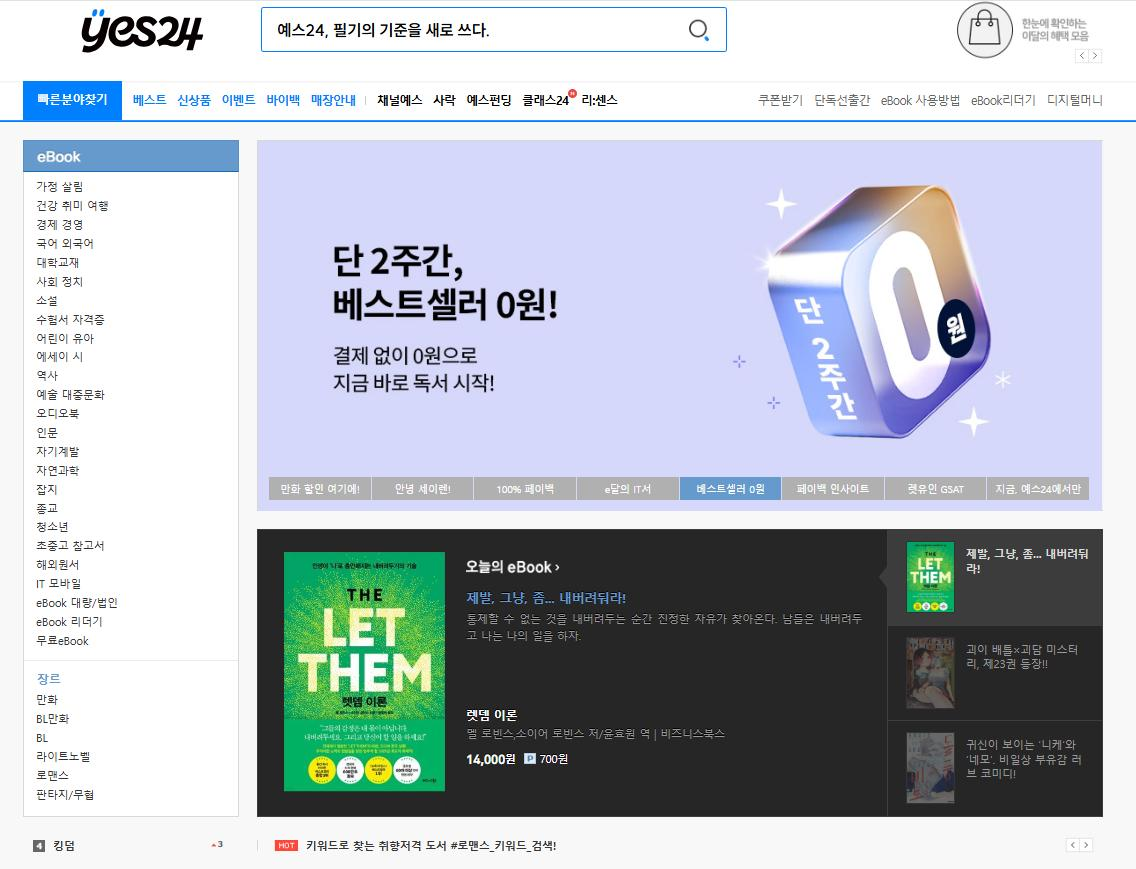button: (878, 85, 961, 113), (1048, 88, 1111, 113), (33, 310, 106, 331), (36, 576, 109, 597), (32, 197, 112, 216), (37, 594, 117, 613), (33, 463, 113, 482), (34, 332, 113, 350), (309, 88, 362, 114), (813, 88, 875, 110), (522, 85, 576, 110), (971, 91, 1040, 110), (373, 87, 425, 112), (35, 386, 107, 404), (758, 88, 809, 113), (31, 175, 91, 196), (37, 445, 97, 466), (34, 615, 104, 632), (261, 88, 304, 114), (35, 787, 97, 805), (462, 92, 517, 112), (33, 749, 94, 766), (35, 501, 103, 516), (32, 236, 99, 251), (32, 634, 99, 649), (580, 87, 618, 113), (38, 540, 108, 554), (36, 369, 103, 383), (34, 350, 90, 366), (33, 252, 82, 270), (34, 519, 83, 537), (33, 216, 88, 232), (31, 485, 86, 501), (36, 554, 78, 574), (34, 409, 92, 423), (32, 275, 90, 289), (221, 88, 257, 109), (126, 91, 171, 107), (431, 87, 459, 112), (34, 769, 75, 786), (177, 92, 214, 110), (35, 289, 67, 309), (37, 424, 69, 443), (35, 712, 74, 727), (36, 695, 61, 705), (1090, 48, 1103, 64), (35, 731, 47, 745), (1080, 48, 1087, 64)
input_field: (261, 6, 729, 53)
popup: (258, 136, 1103, 510)
